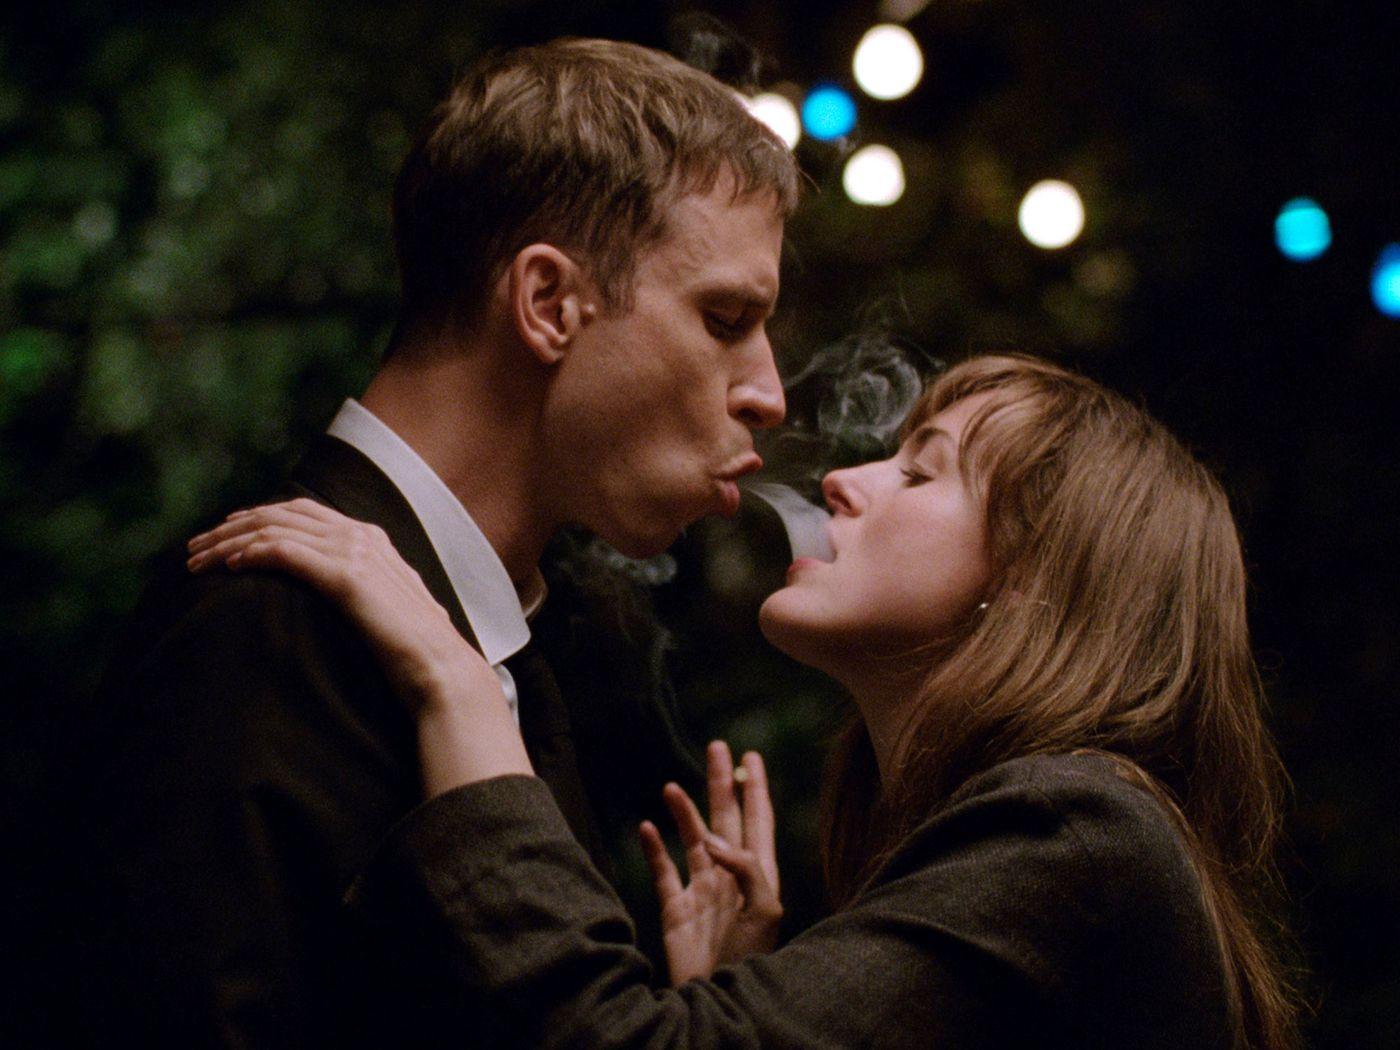Person: (176, 72, 814, 1032), (808, 306, 1242, 1000)
